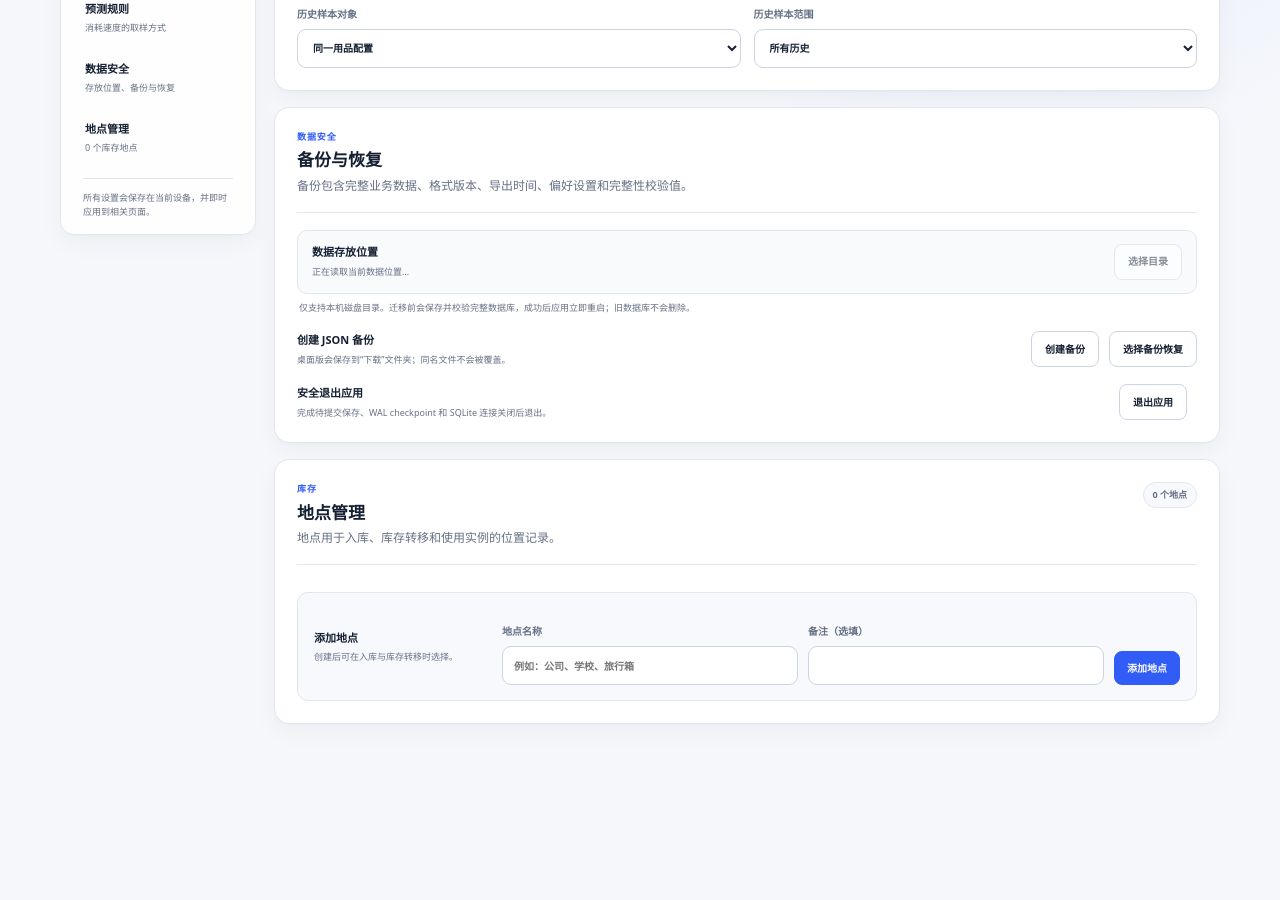
Test: preserves the location form and store when SQLite rejects creation
(page scrolled)
Type "测试办公室" into the field labelled "地点名称" at (650, 666), box top-left (502, 646), bottom-right (798, 685)
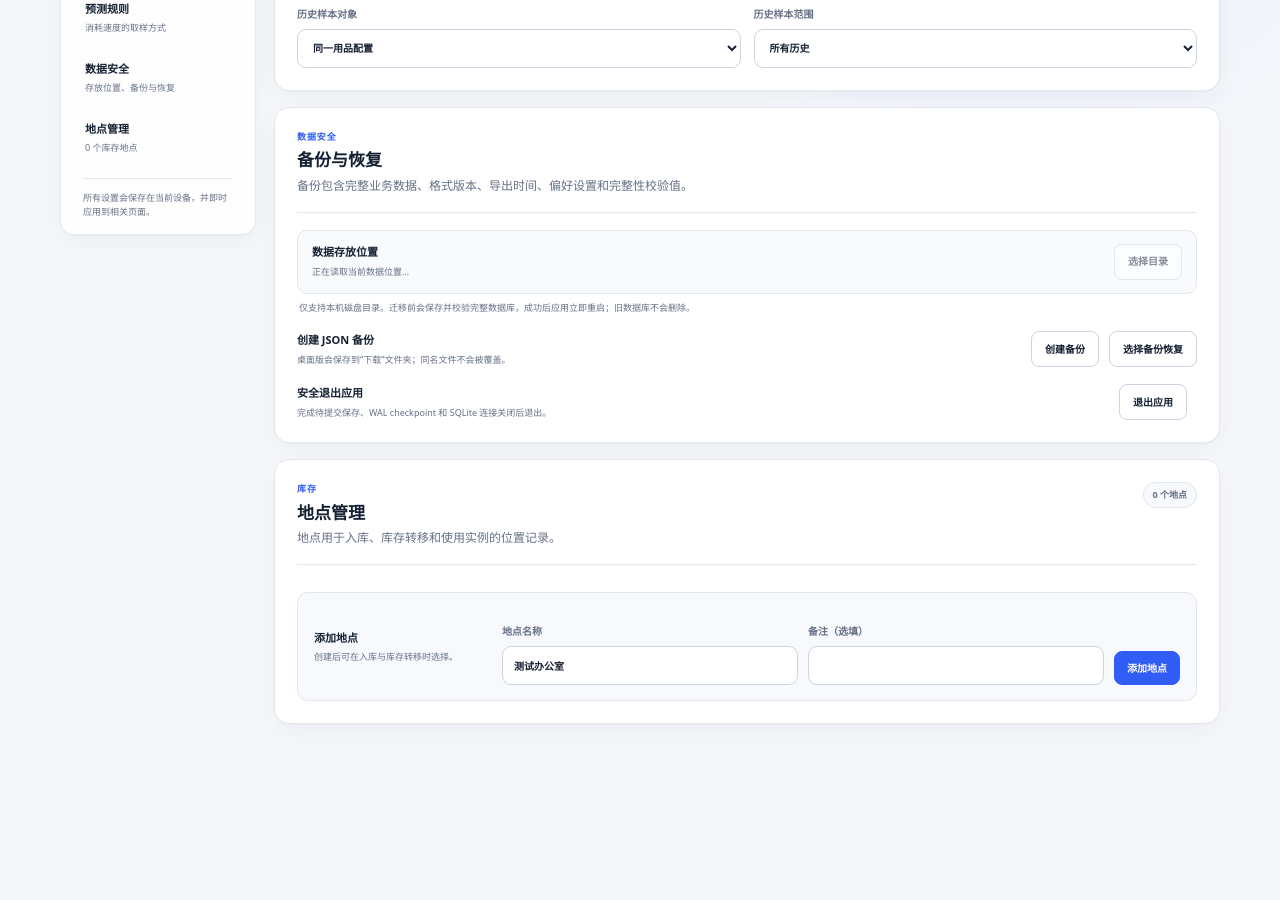
Submit the form labelled "地点名称", box top-left (502, 608), bottom-right (1180, 685)
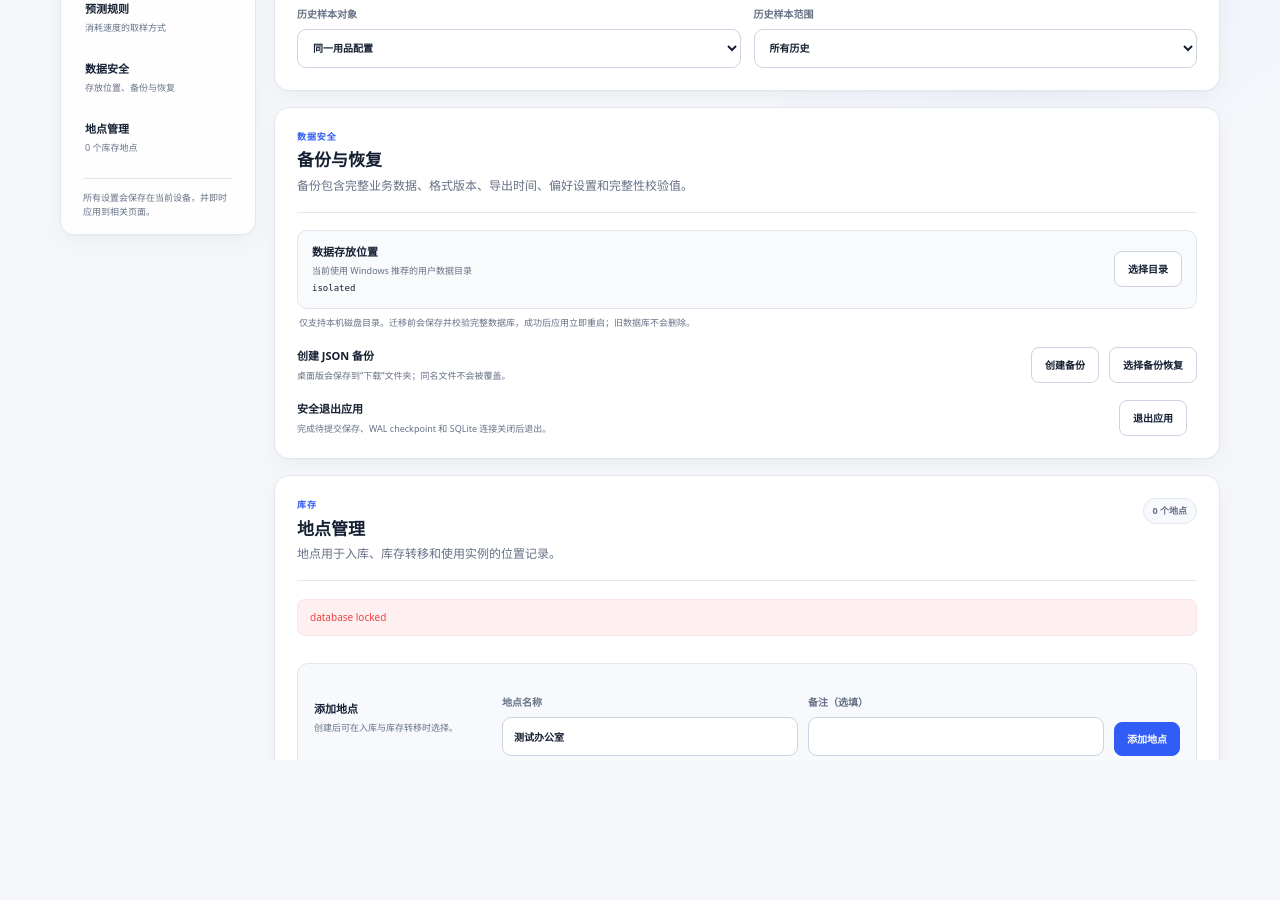
Result: the text "database locked" is shown at top-left (297, 599), bottom-right (1197, 636)
